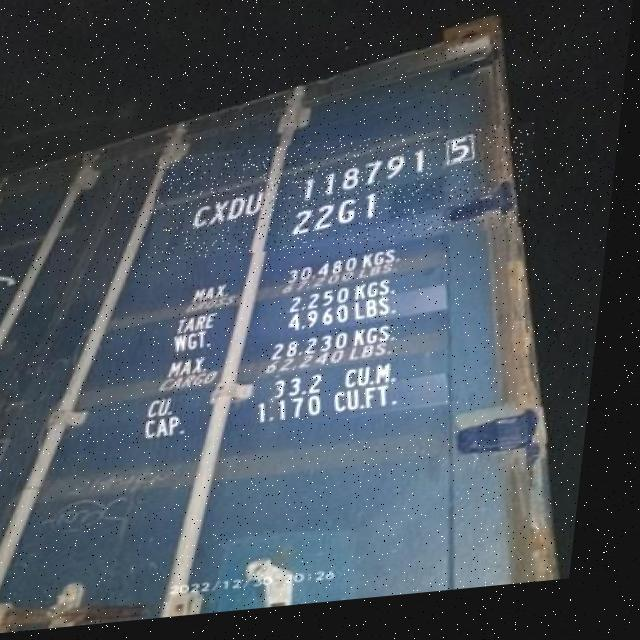container_number_h: (155, 133, 542, 266)
